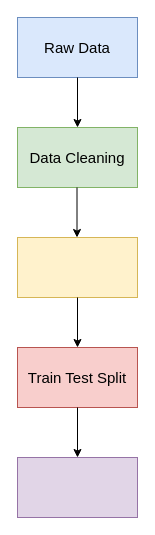
This 155x535 diagram has some shape labels left out. The shapes that lost their labels are listed below. From the top down, each one's centre as x and y in pixels, then its label:
(x=77, y=267): Normalization
(x=77, y=487): Model Training
